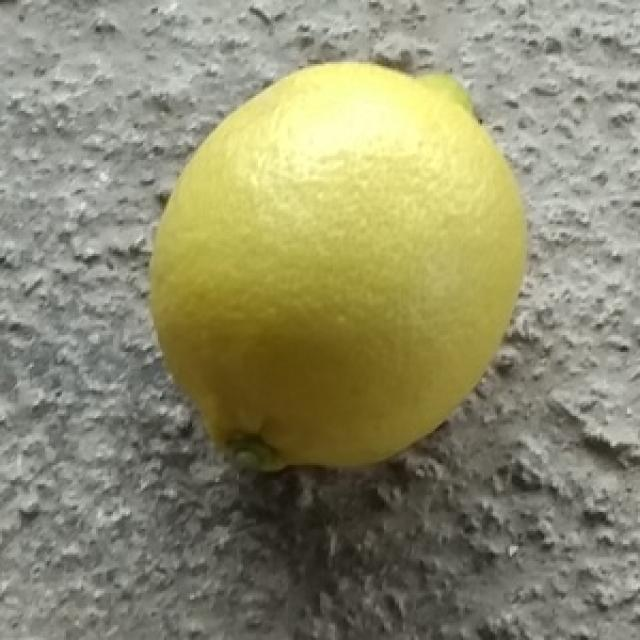Lemon: (146, 59, 528, 478)
